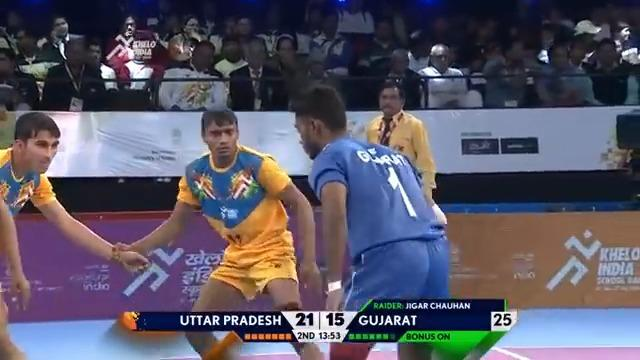Player: (113, 106, 323, 359), (0, 110, 150, 358)
Raider: (290, 83, 451, 359)
referee: (363, 80, 437, 203), (40, 32, 106, 110), (0, 46, 40, 111)
